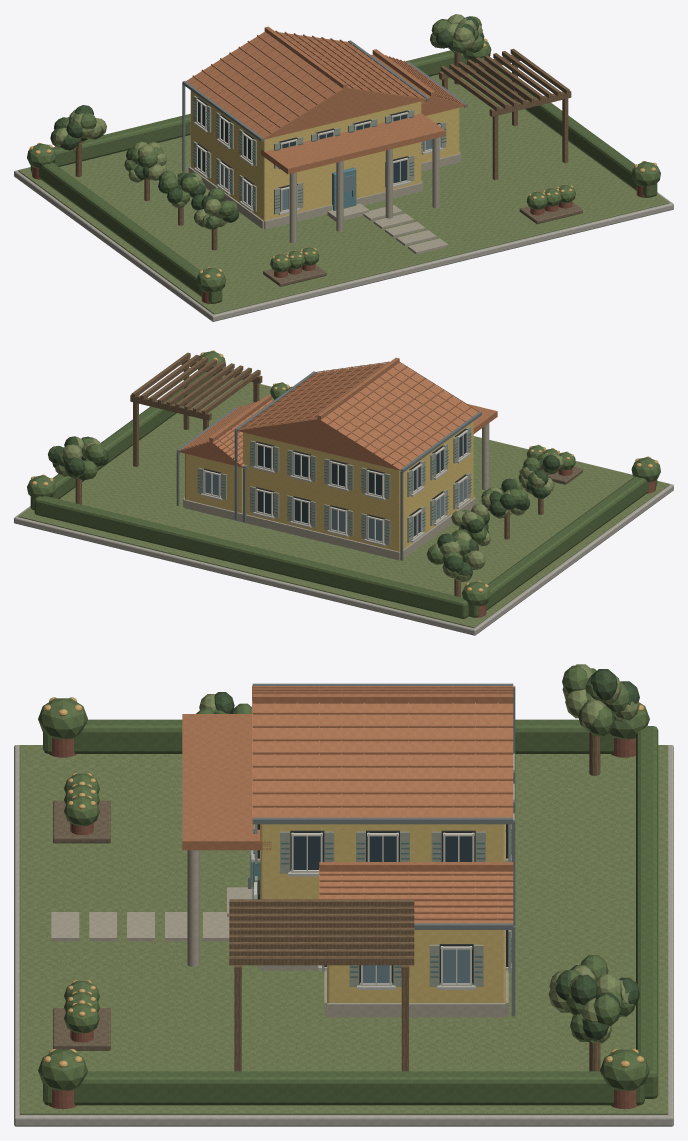
Rendered from EXP_VILLA_LIMONAIA.glb.
The picture shows the model from 3 angles, top to bottom: view 1: azimuth 30°, elevation 25°; view 2: azimuth 150°, elevation 25°; view 3: azimuth 270°, elevation 25°; orthographic projection. The views are drawn at different scales.
Parts seen in each view (by area): view 1: EXP_VILLA_LIMONAIA_Visual; view 2: EXP_VILLA_LIMONAIA_Visual; view 3: EXP_VILLA_LIMONAIA_Visual.
Part boxes in pixels (x1=…): EXP_VILLA_LIMONAIA_Visual: x1=14, y1=14, x2=673, y2=321; EXP_VILLA_LIMONAIA_Visual: x1=14, y1=350, x2=673, y2=635; EXP_VILLA_LIMONAIA_Visual: x1=14, y1=664, x2=673, y2=1126.
Size of what is drawn, in the model's own units: 7.92 by 2.22 by 5.92.
Materials: 22 (17 with a texture image).
